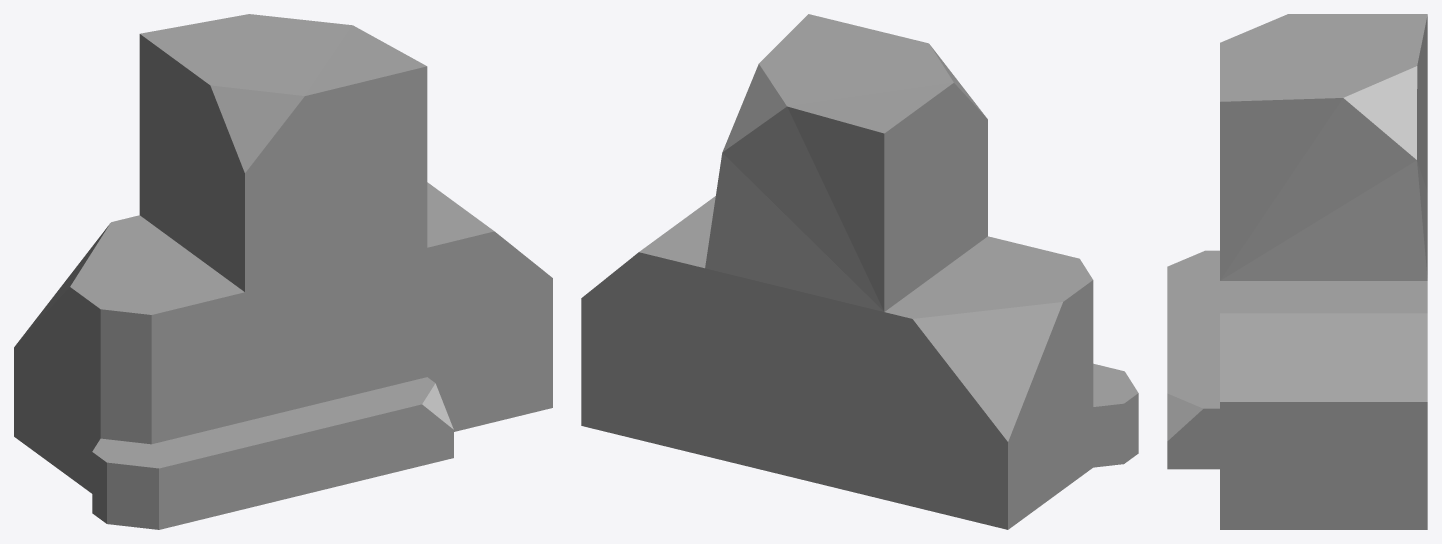
The model's file is ruin_16.fbx.
3 renders of one model, left to right at view 1: azimuth 30°, elevation 25°; view 2: azimuth 150°, elevation 25°; view 3: azimuth 270°, elevation 25°, orthographic.
Parts seen in each view (by area): view 1: ruin_16; view 2: ruin_16; view 3: ruin_16.
Boxes of the visible parts, <box> form: ruin_16: <box>14,14,552,529</box>; ruin_16: <box>581,14,1138,529</box>; ruin_16: <box>1167,14,1427,529</box>.
Bounding box in the file's own units: 120 × 93.73 × 60.19.
